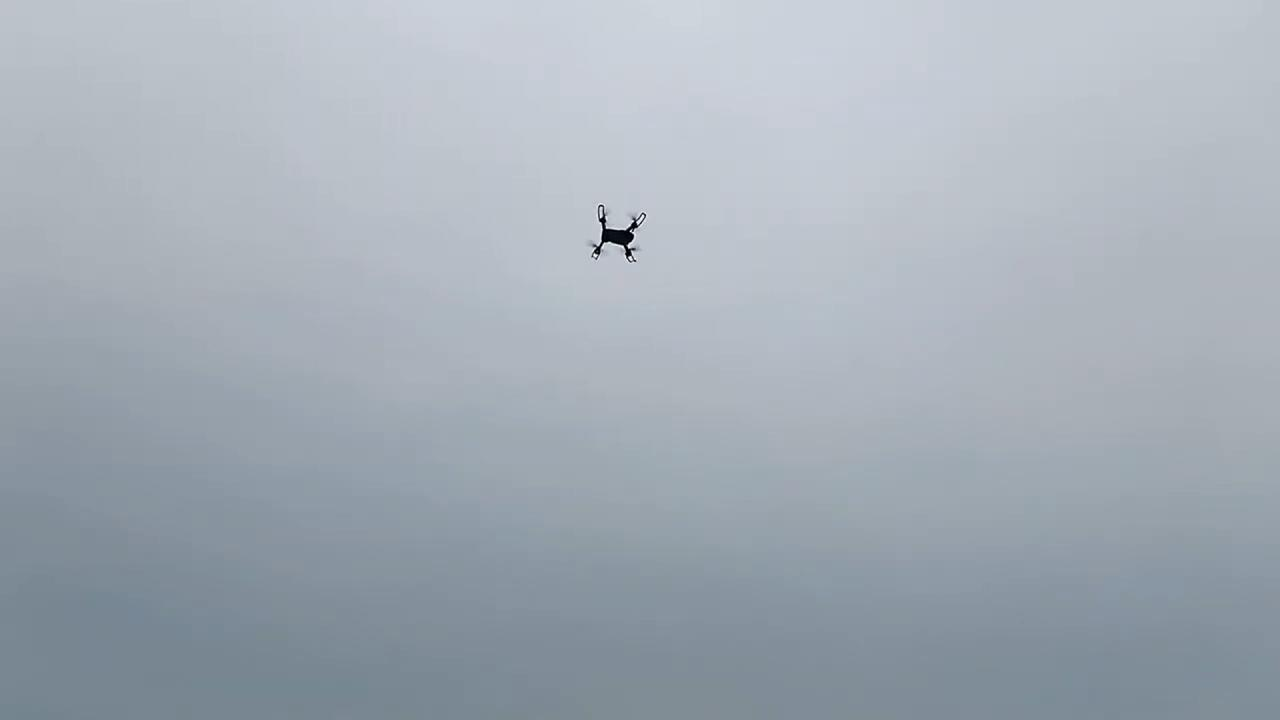Drone: (580, 196, 654, 272)
